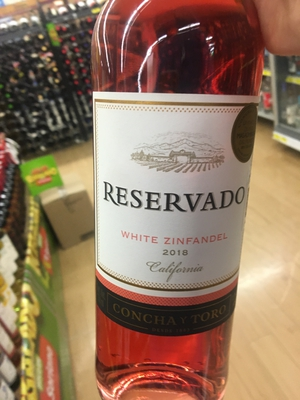reservado white zinfandel: (86, 14, 262, 392)
